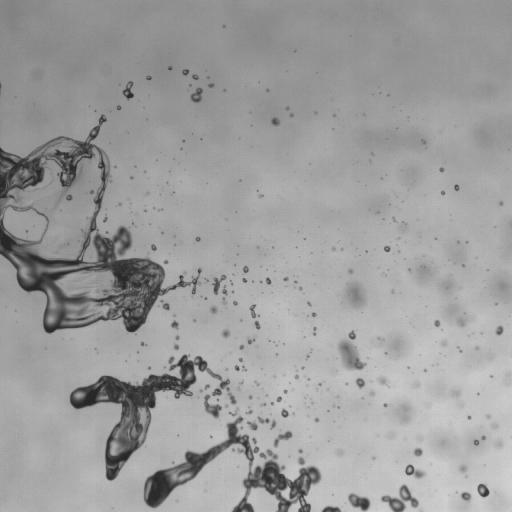droplet: (337, 331, 366, 370), (381, 484, 418, 511), (347, 282, 365, 307), (348, 493, 370, 511), (405, 464, 425, 478), (122, 81, 133, 99), (190, 88, 202, 102), (477, 483, 489, 497), (378, 376, 389, 386), (355, 378, 365, 388), (441, 281, 451, 290), (451, 388, 460, 398), (457, 318, 468, 326), (494, 439, 503, 448), (461, 492, 471, 500), (495, 326, 503, 335), (413, 448, 422, 456), (222, 329, 230, 337), (376, 336, 383, 345), (271, 118, 279, 125), (171, 321, 178, 329), (281, 409, 288, 417), (459, 465, 467, 472), (210, 306, 217, 313), (254, 321, 260, 329), (222, 287, 227, 295), (182, 69, 188, 75), (276, 396, 282, 402), (246, 408, 252, 414), (337, 449, 343, 455), (247, 338, 254, 343), (192, 74, 198, 79), (454, 184, 459, 190), (151, 244, 156, 250), (384, 246, 390, 251), (243, 266, 248, 272), (266, 278, 271, 284), (434, 320, 439, 326), (441, 341, 447, 346), (312, 327, 316, 334), (239, 344, 244, 349), (414, 382, 419, 387), (204, 384, 209, 389), (369, 391, 374, 396), (492, 423, 497, 428), (222, 298, 226, 304), (103, 216, 107, 221), (348, 269, 353, 273), (283, 277, 288, 281), (242, 278, 247, 282), (140, 342, 145, 346), (174, 344, 178, 349), (254, 381, 259, 385), (474, 440, 478, 445), (209, 83, 213, 87), (195, 237, 199, 241), (233, 301, 237, 305), (312, 312, 316, 316), (175, 335, 179, 339), (294, 375, 298, 379), (283, 389, 287, 393), (248, 395, 252, 399), (439, 168, 443, 171), (258, 194, 262, 197), (499, 202, 503, 205), (92, 280, 96, 283), (486, 414, 489, 418), (315, 418, 318, 422), (299, 449, 302, 453), (168, 66, 171, 69), (147, 76, 150, 79), (117, 106, 120, 109), (422, 140, 425, 143), (441, 191, 444, 194), (393, 218, 396, 221), (164, 260, 167, 263), (308, 302, 311, 305), (475, 346, 478, 349), (458, 348, 461, 351), (239, 358, 242, 361), (240, 381, 243, 384), (261, 403, 264, 406), (384, 403, 387, 406), (404, 417, 407, 420), (467, 416, 470, 419), (389, 435, 392, 438), (482, 436, 485, 439), (403, 223, 406, 225), (299, 287, 302, 289), (507, 373, 509, 376), (286, 107, 288, 109), (290, 114, 292, 116), (332, 248, 334, 250), (205, 279, 207, 281), (70, 287, 72, 289), (319, 383, 321, 385), (271, 402, 273, 404), (225, 405, 227, 407)
ligament: (0, 115, 200, 333), (69, 354, 234, 480), (143, 408, 321, 511), (247, 416, 276, 430), (273, 430, 292, 447), (212, 274, 226, 294), (249, 304, 258, 318), (321, 505, 341, 511), (234, 365, 246, 371), (161, 301, 169, 309), (59, 242, 68, 248), (306, 354, 309, 358), (0, 82, 1, 90), (419, 510, 422, 511)
